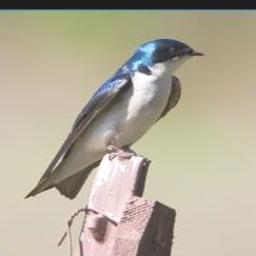Swallow: (21, 37, 206, 201)
